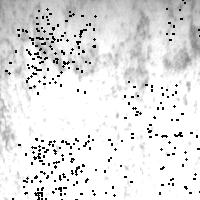pitted_surface: (1, 13, 198, 190), (26, 33, 85, 92), (34, 135, 93, 193), (34, 15, 94, 71), (12, 138, 67, 198), (124, 81, 181, 137), (75, 138, 130, 194), (34, 141, 85, 200), (31, 140, 85, 194), (35, 0, 94, 46), (159, 132, 200, 192), (5, 29, 57, 76), (166, 0, 200, 39)
